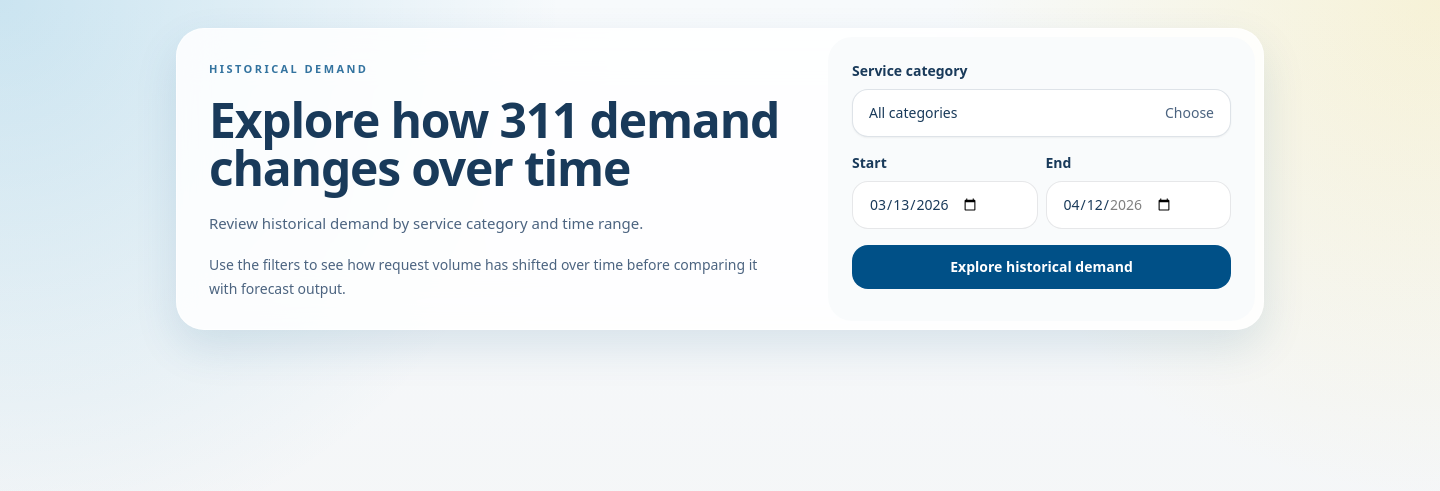
Test case: HistoricalDemandPage › shows no-data messaging without partial results
This screenshot has width=1440, height=491.
Click the button "Explore historical demand". click: (1042, 267)
box: [852, 245, 1231, 289]
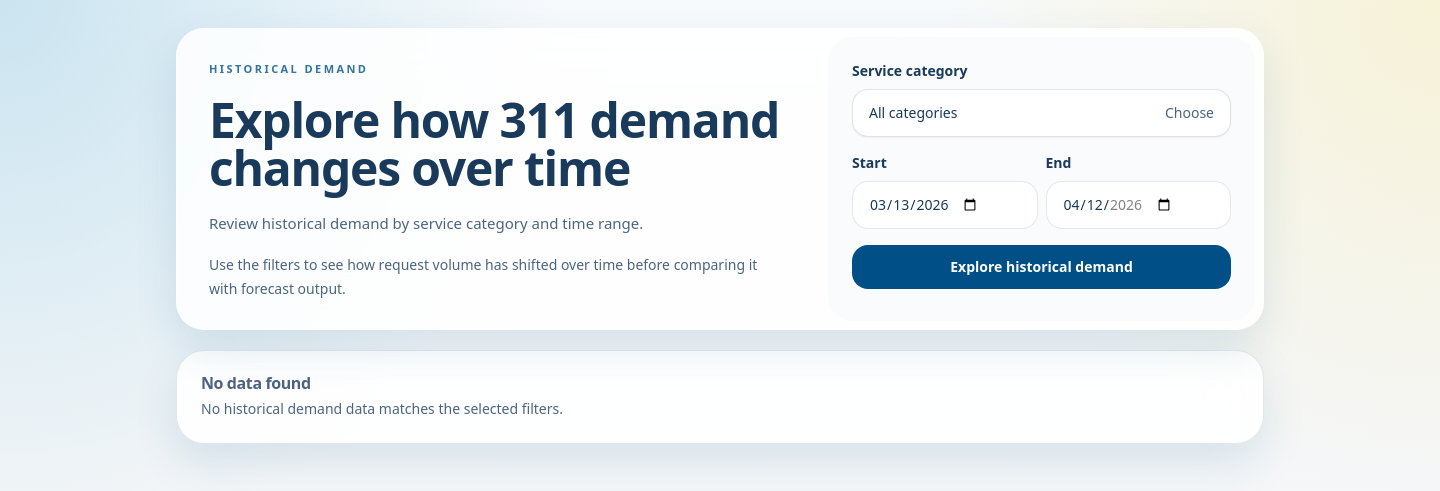
Check: the heading "No data found" is shown, box [201, 372, 311, 394]
